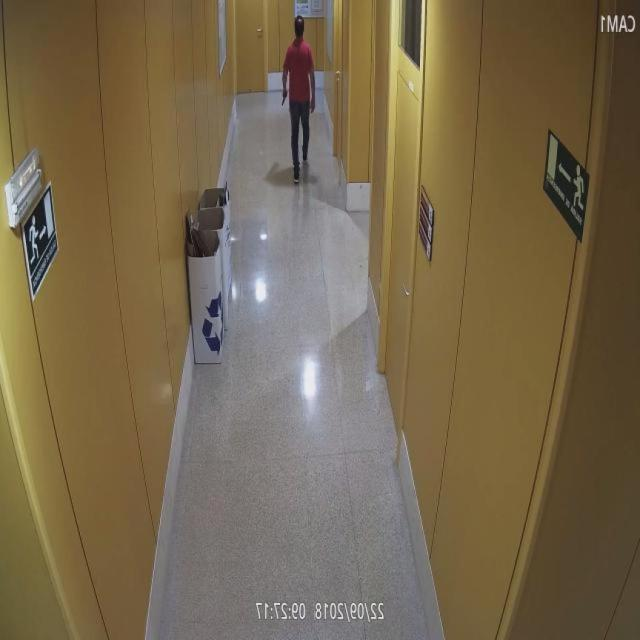pistol: (280, 87, 289, 105)
